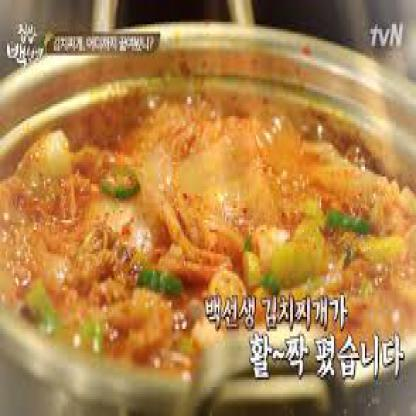Kimchi: (3, 70, 414, 399)
